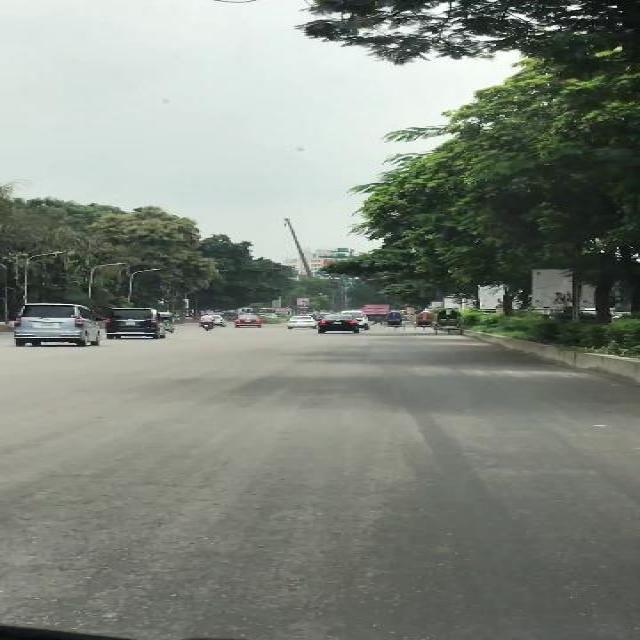bike: (200, 314, 214, 331)
vehicle: (13, 304, 100, 348), (104, 307, 161, 339), (434, 309, 464, 337), (320, 314, 359, 334), (413, 311, 436, 332), (383, 313, 405, 332), (234, 314, 262, 328), (287, 317, 317, 330)
